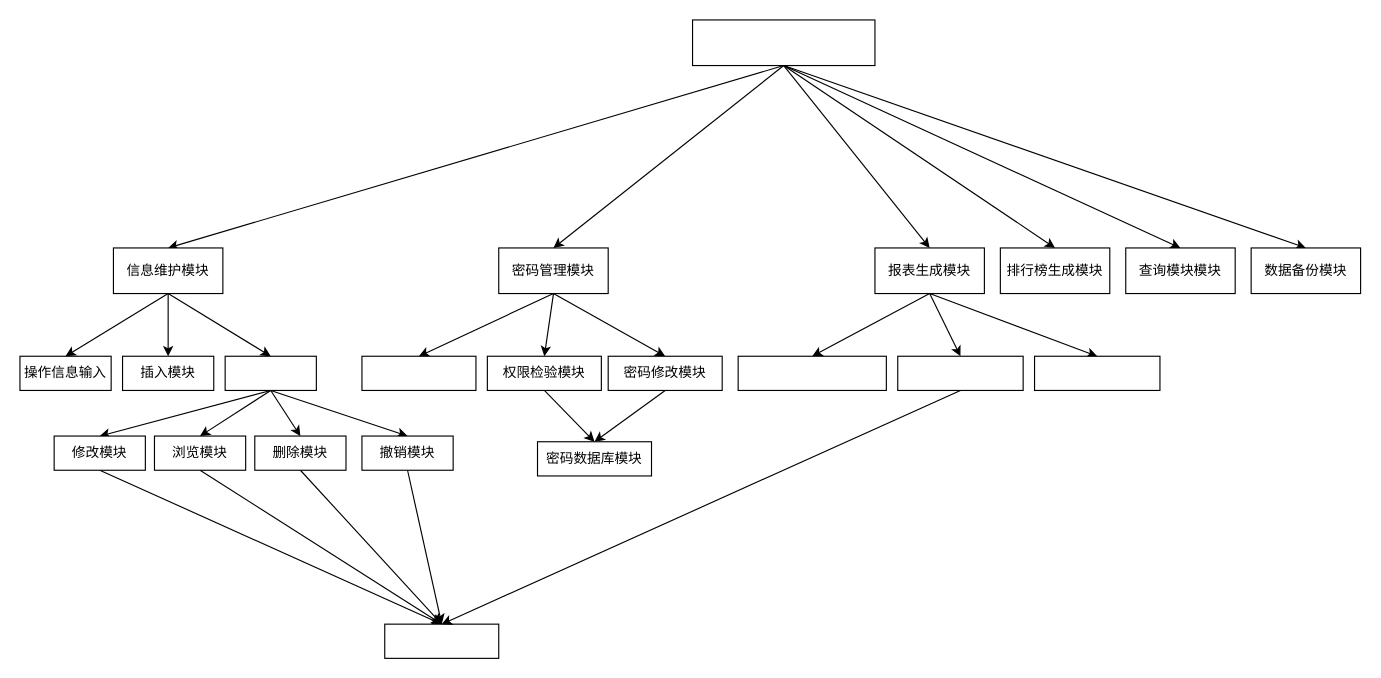
Image size: 1381x678. Some labels were removed from this diagram. The shapes that lost their labels are listed below. From the top down, each one's centre as x and y in pixels, then its label:
the point at 783,42: 旅行社管理信息系统
the point at 270,372: 维护模块
the point at 418,372: 修改要求输入模块
the point at 811,372: 报表生成请求输入模块
the point at 960,372: 报表信息读取模块
the point at 1096,372: 报表输出模块
the point at 441,640: 业务数据库模块
